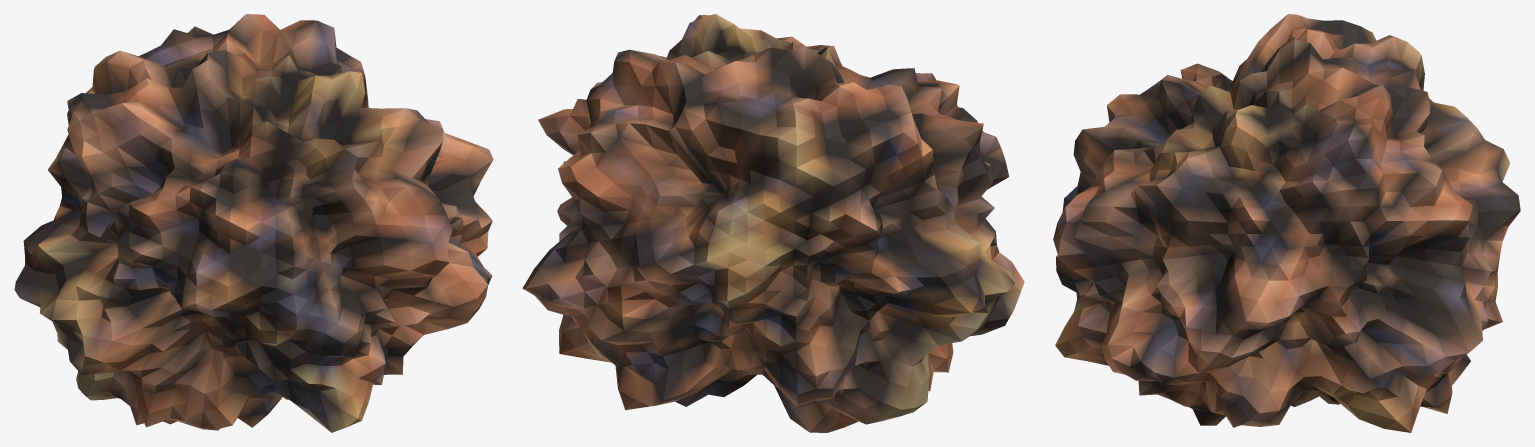
File: motil-rock-master-v1.glb
3 views of the same model, side by side, from view 1: azimuth 30°, elevation 25°; view 2: azimuth 150°, elevation 25°; view 3: azimuth 270°, elevation 25° (orthographic). The views are drawn at different scales.
Visible parts, largest first — view 1: MotilRock; view 2: MotilRock; view 3: MotilRock.
Part boxes in pixels (left/top/right/bottom): MotilRock: left=14, top=14, right=493, bottom=432; MotilRock: left=522, top=14, right=1024, bottom=432; MotilRock: left=1053, top=14, right=1520, bottom=432.
Bounding box in the file's own units: 3.74 × 2.84 × 3.28.
